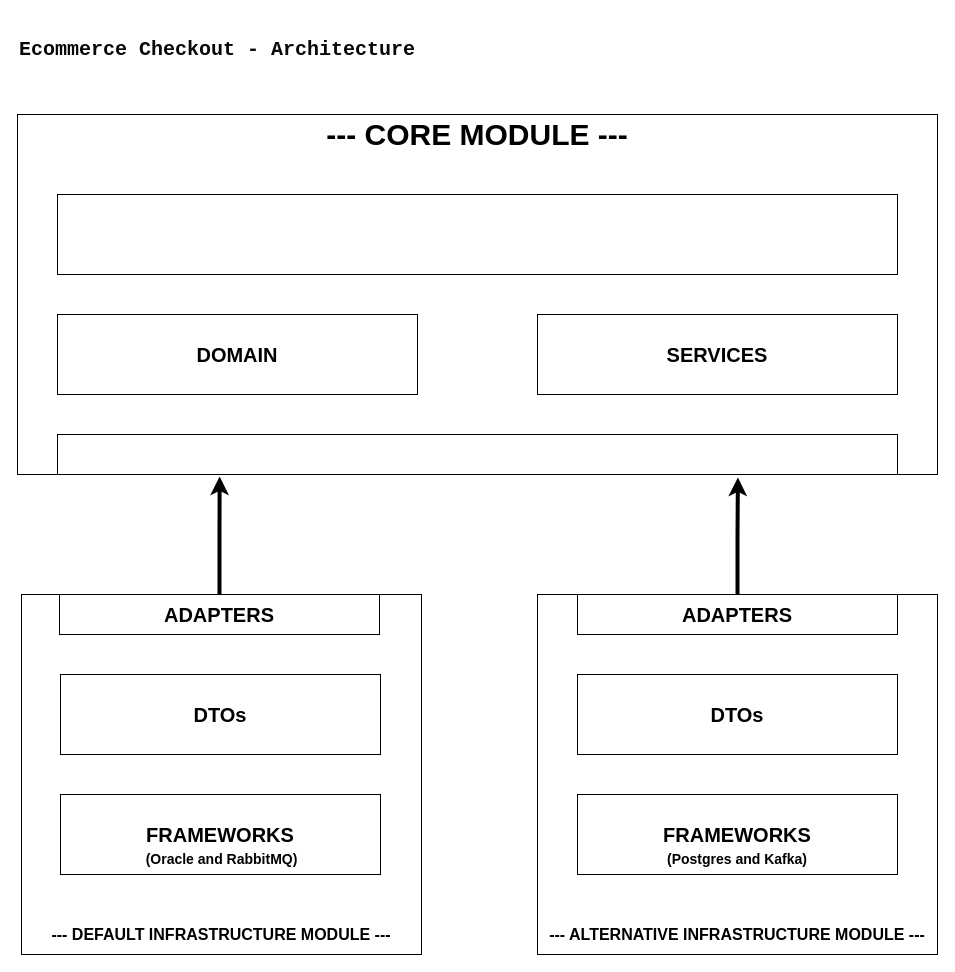
Image size: 955x972. Some labels were removed from this diagram. Here are the shapes that lost their labels. From the top down, the centre of each, then its label:
At point 477,234: "USE CASES".
At point 477,454: "PORTS".
